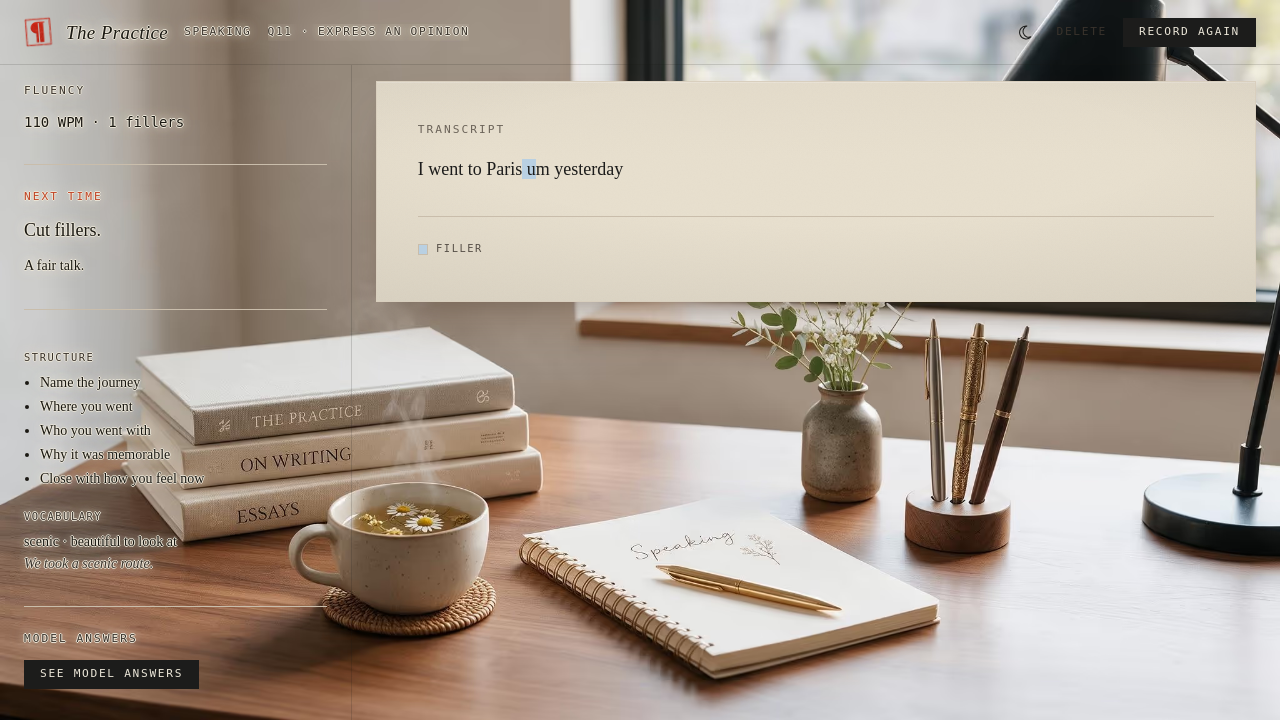
Scenario: SpeakingAttemptPage result aids › loads sample talks and hides the button
The image size is (1280, 720).
(page scrolled)
Click the button "See model answers": (112, 674) 24,660 -> 199,689
(page scrolled)
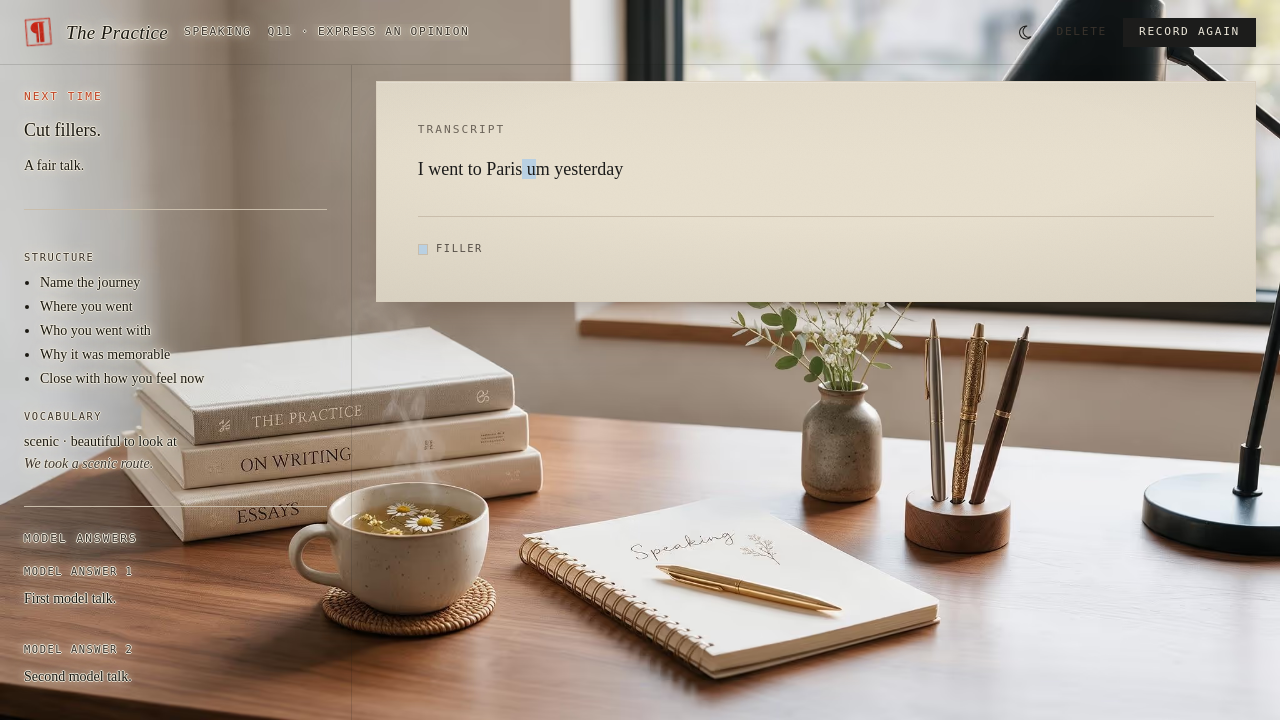
Result: the text "First model talk." is shown at 24,591 -> 116,606
Result: the text "Second model talk." is shown at 24,669 -> 132,684
Result: the button "See model answers" is gone
